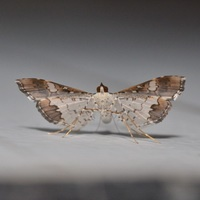insect: (16, 75, 185, 142)
